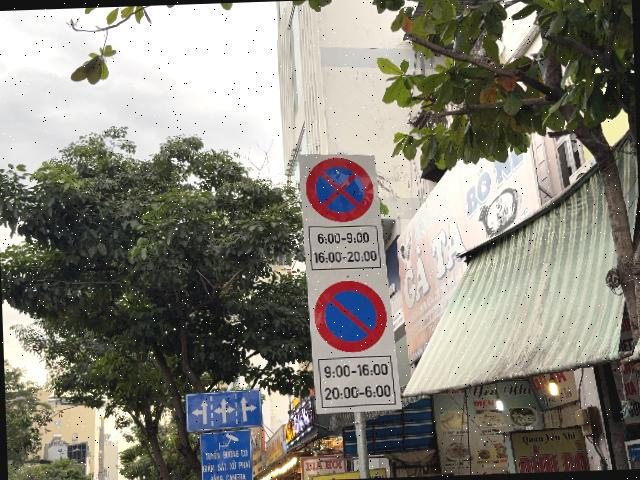cam-do-xe: (314, 280, 388, 354)
cam-dung-va-do-xe: (305, 156, 376, 222)
